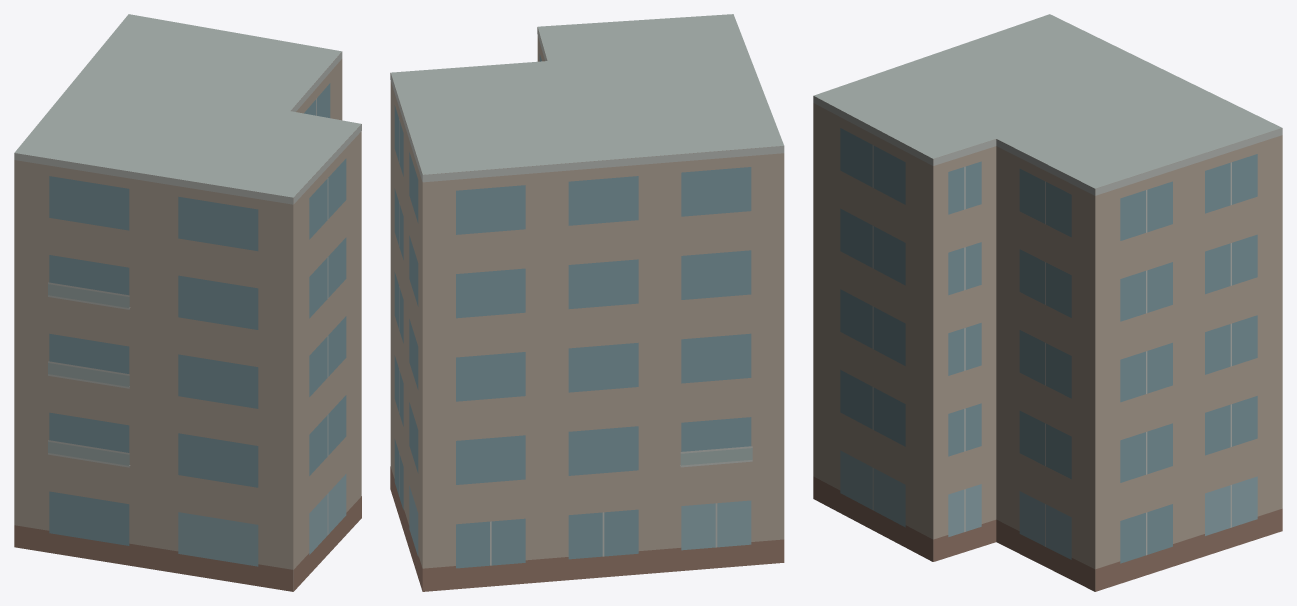
The model's file is survey-upis-32859909.glb.
The picture shows the model from 3 angles, left to right: view 1: azimuth 30°, elevation 25°; view 2: azimuth 150°, elevation 25°; view 3: azimuth 270°, elevation 25°; orthographic projection. The views are drawn at different scales.
Visible parts, largest first — view 1: survey-upis-32859909.tmp; view 2: survey-upis-32859909.tmp; view 3: survey-upis-32859909.tmp.
Part boxes in pixels (x1,y1,x2,y2): survey-upis-32859909.tmp: (14,14,361,591); survey-upis-32859909.tmp: (390,14,784,591); survey-upis-32859909.tmp: (813,14,1282,591).
Bounding box in the file's own units: 12.67 × 13.63 × 14.38.
